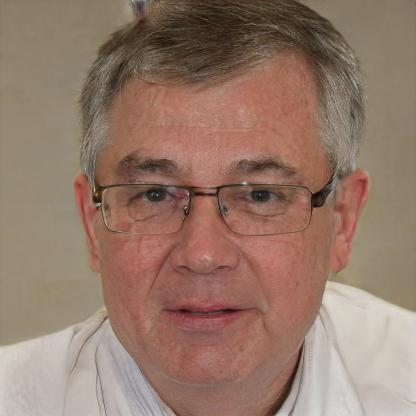glasses: (89, 174, 326, 240)
